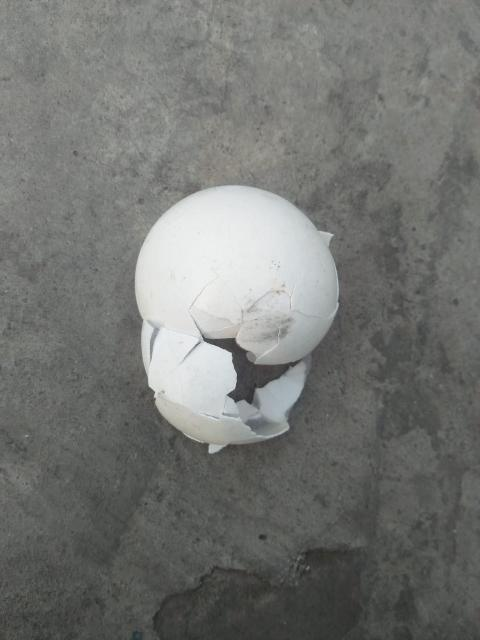Roto: (133, 183, 340, 452)
